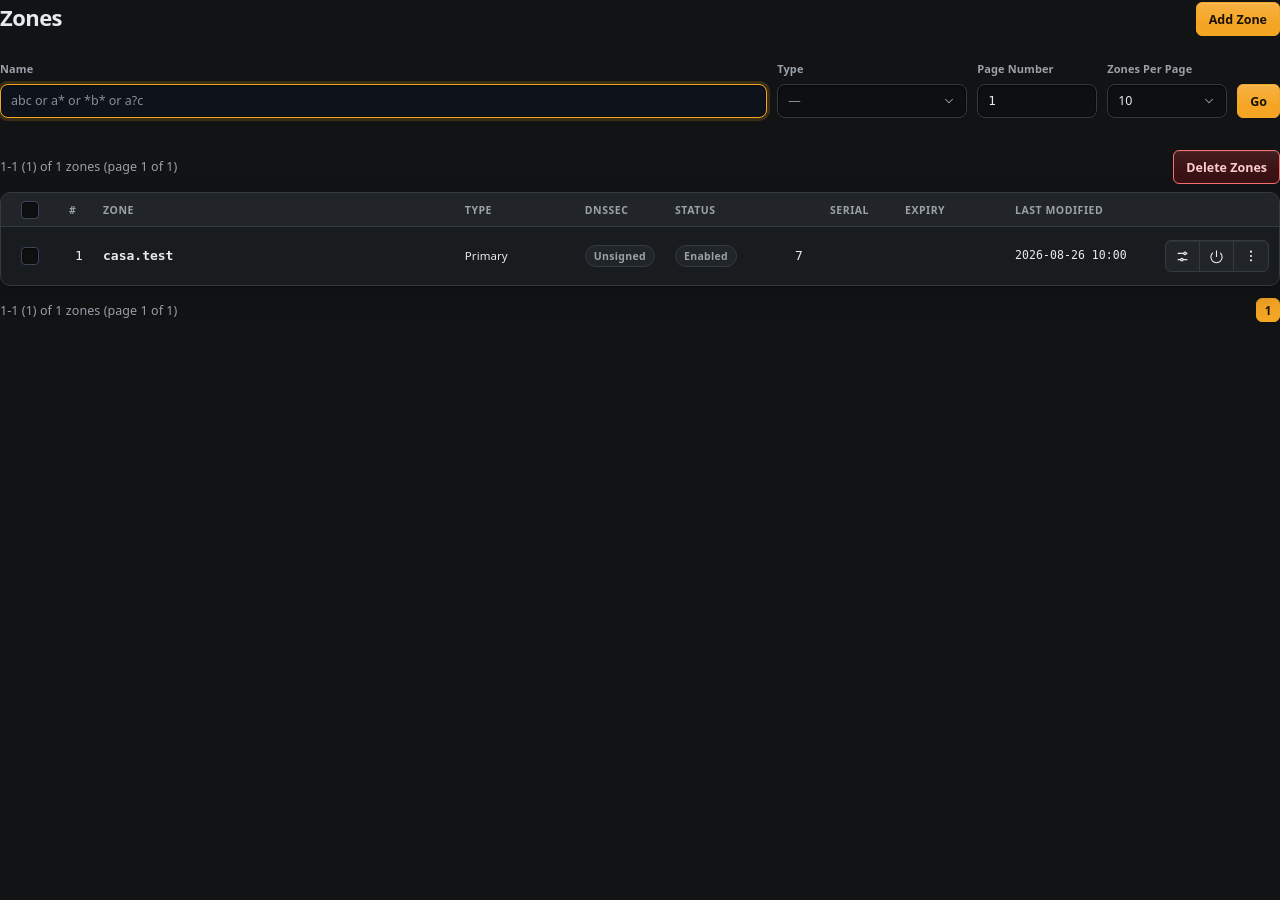
Test: zone list › the bulk delete sends `zones` in plural, comma-separated
Expected: the button "casa.test" is shown, [103,246,174,266]
Click the checkbox named "Select casa.test". click: [30, 256]
box: [21,247,39,265]
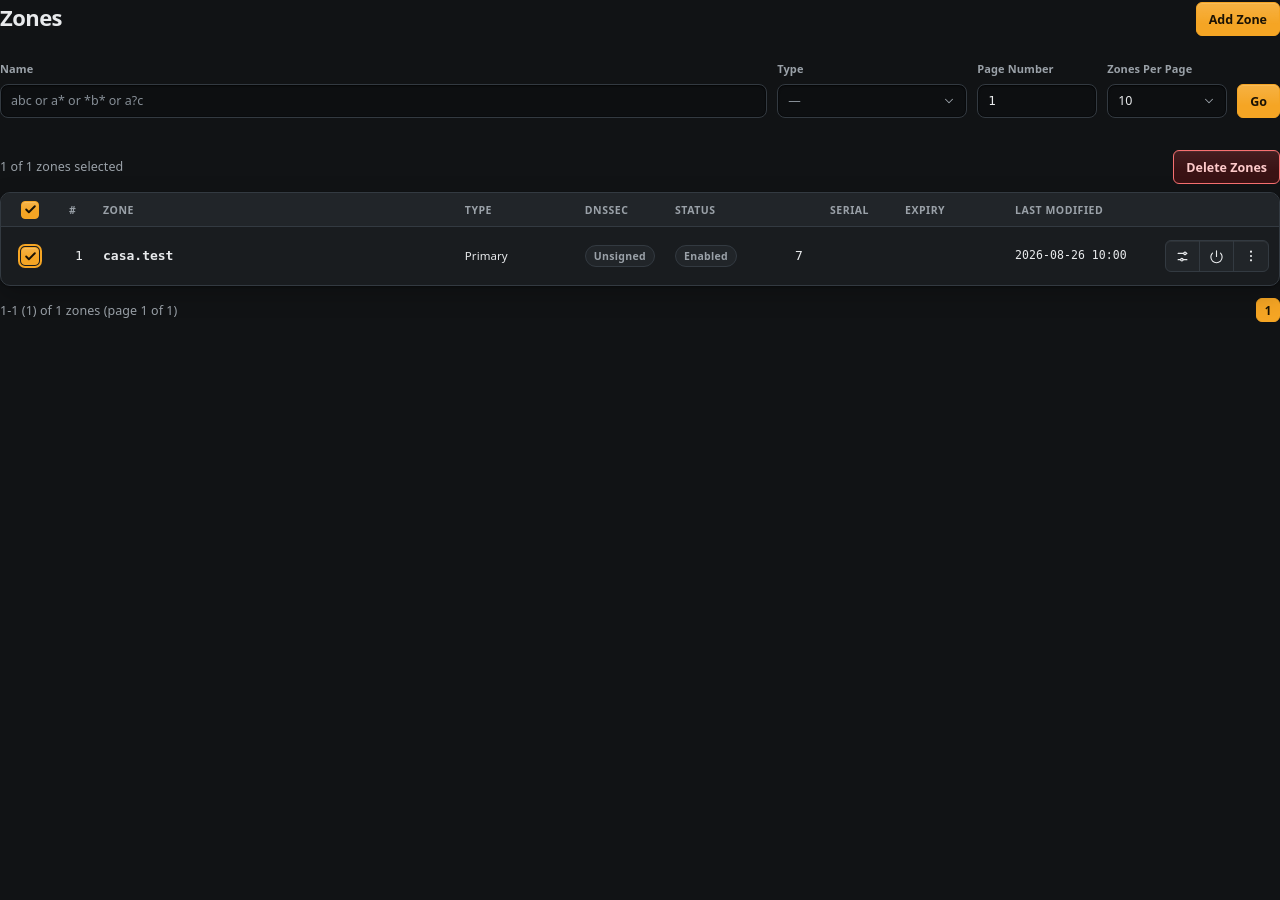
Click the button "Delete Zones". click: [1227, 167]
box: [1173,150,1279,184]
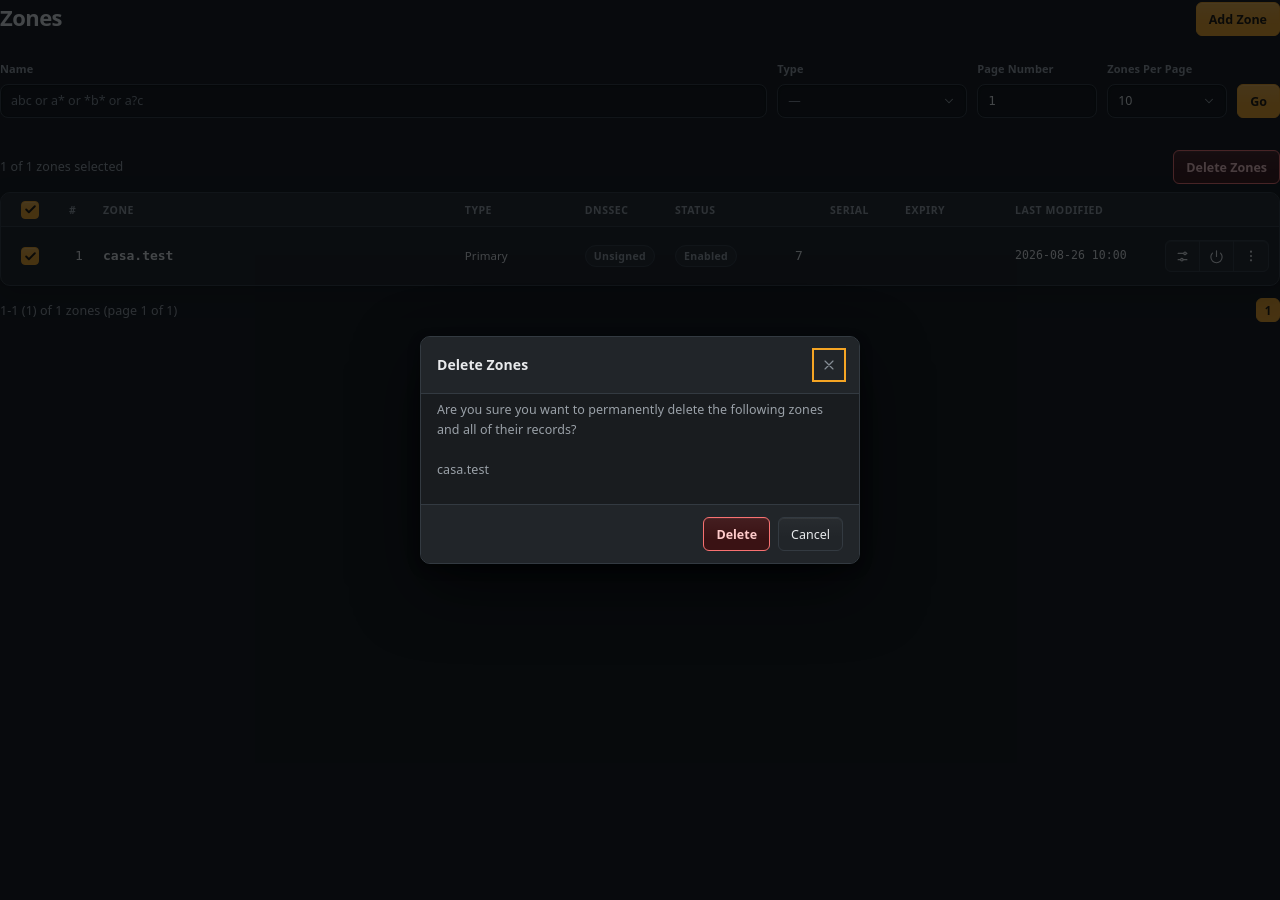
Click the button "Delete". click: [737, 534]
box: [703,517,770,551]
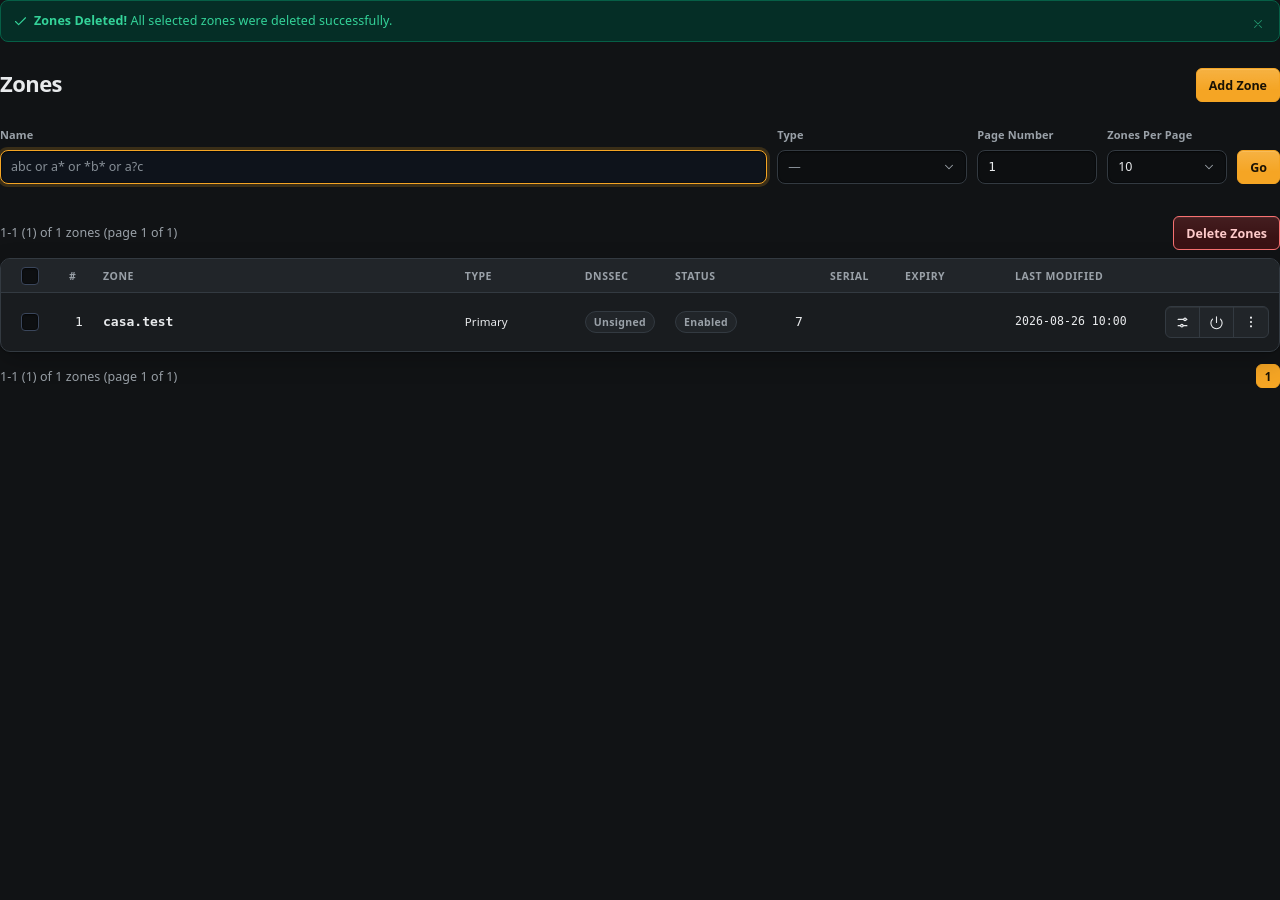
Expected: the text "All selected zones were deleted successfully." is shown, [130,12,392,29]
